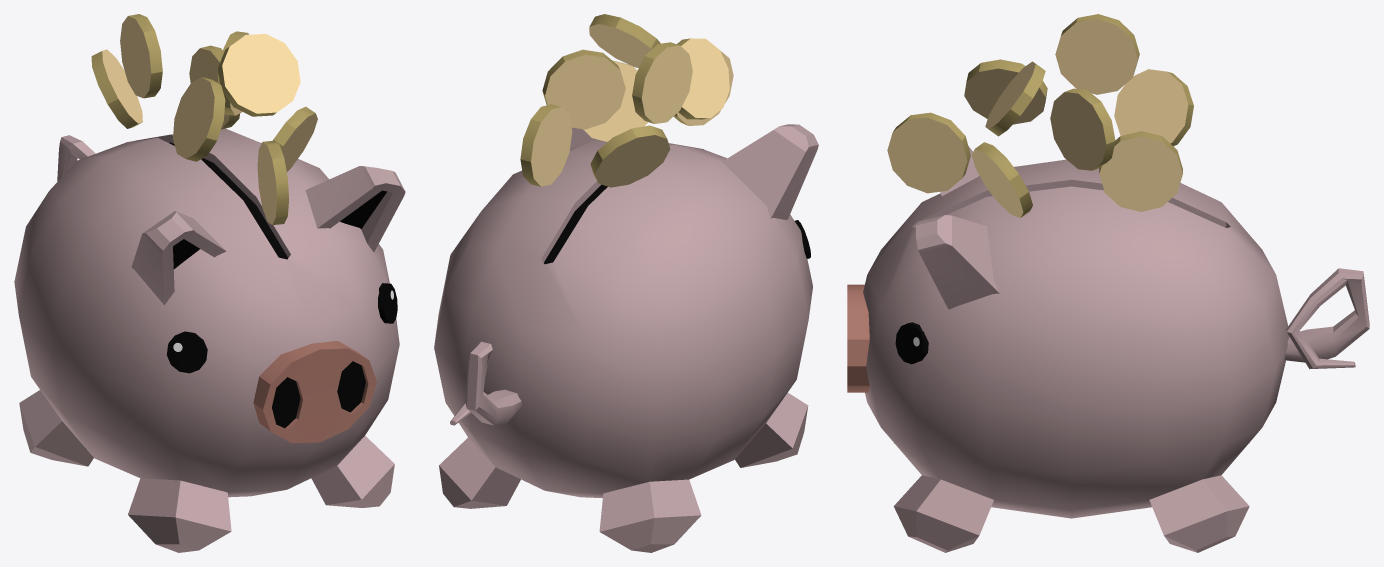
Rendered from LifeSavings.fbx.
The picture shows the model from 3 angles, left to right: view 1: azimuth 30°, elevation 25°; view 2: azimuth 150°, elevation 25°; view 3: azimuth 270°, elevation 25°; orthographic projection.
Parts seen in each view (by area): view 1: Piggy; view 2: Piggy; view 3: Piggy.
Boxes of the visible parts, x1,y1,x2,y2 form: Piggy: (14,14,405,552); Piggy: (434,14,818,552); Piggy: (847,14,1369,552).
Size of the model in its own units: 1.68 by 2.44 by 2.47.
